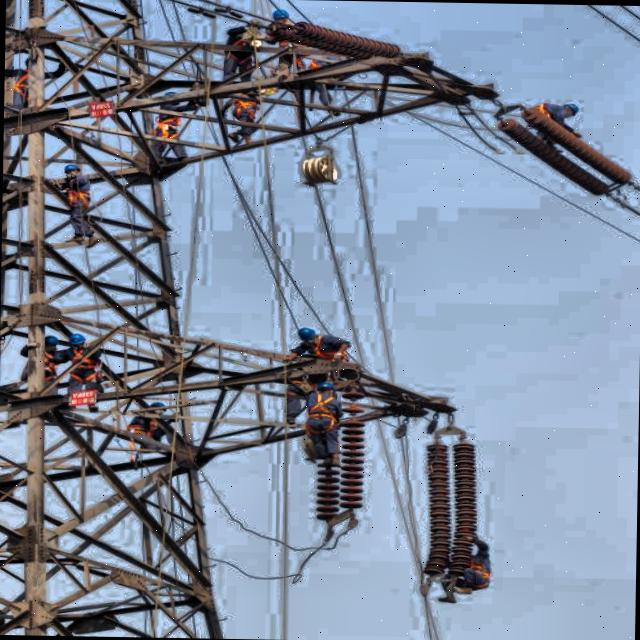helmet: (292, 326, 318, 348), (558, 102, 586, 119), (310, 379, 334, 398), (269, 9, 295, 25), (59, 161, 82, 179), (68, 332, 92, 349), (39, 334, 60, 352)
